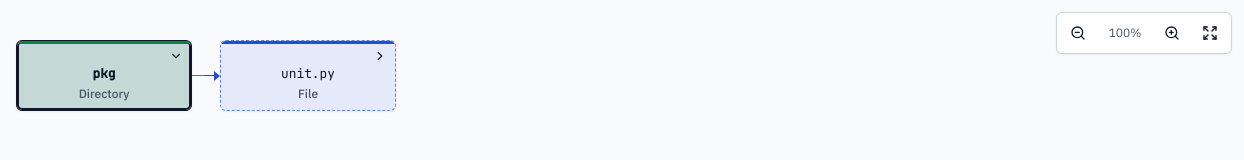
Test case: canonical Directory selection › selects the same directory/file IDs as the API and still supports collapsing
The image size is (1244, 160).
Click the list item with aria-label "pkg, Directory". click: (104,76)
box: [16,40,192,111]
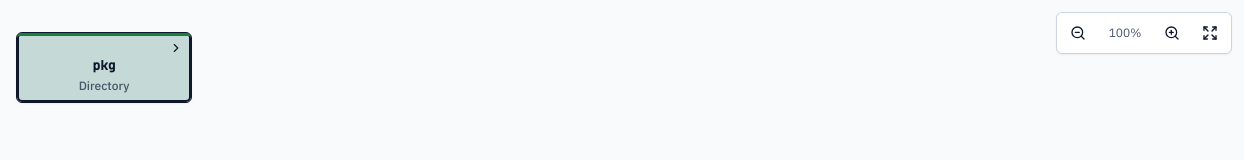
Check: the list item with aria-label "pkg, Directory" is collapsed
Press ArrowRight in the list item with aria-label "pkg, Directory", box [16,32,192,103]
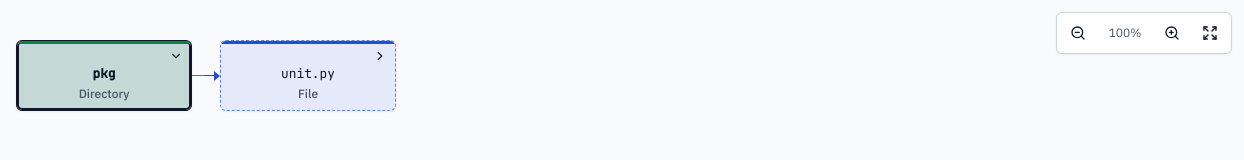
Check: the list item with aria-label "pkg, Directory" is expanded, box [16,40,192,111]
Click the list item with aria-label "unit.py, File". click: (308,76)
box: [220,40,396,111]
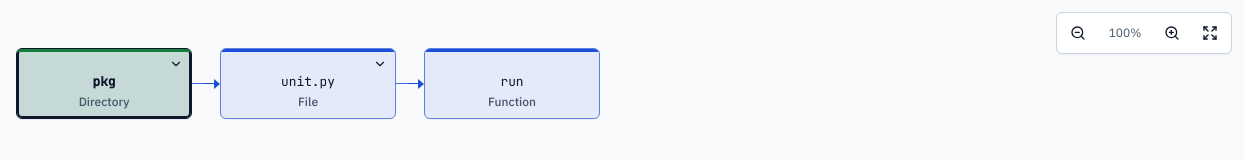
Check: the list item with aria-label "run, Function" is shown, box [424,48,600,119]
